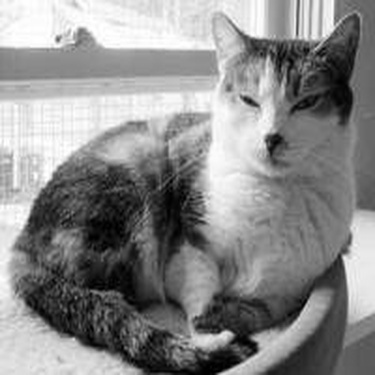cat: (14, 11, 365, 362)
